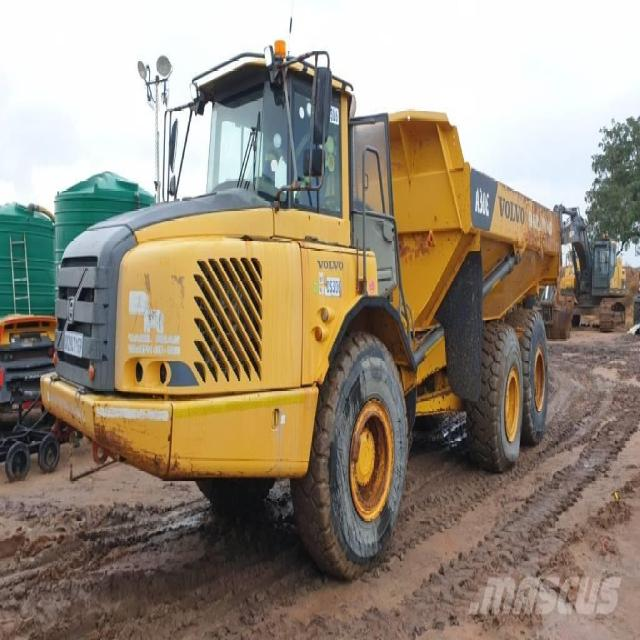dump_truck: (43, 44, 583, 574)
